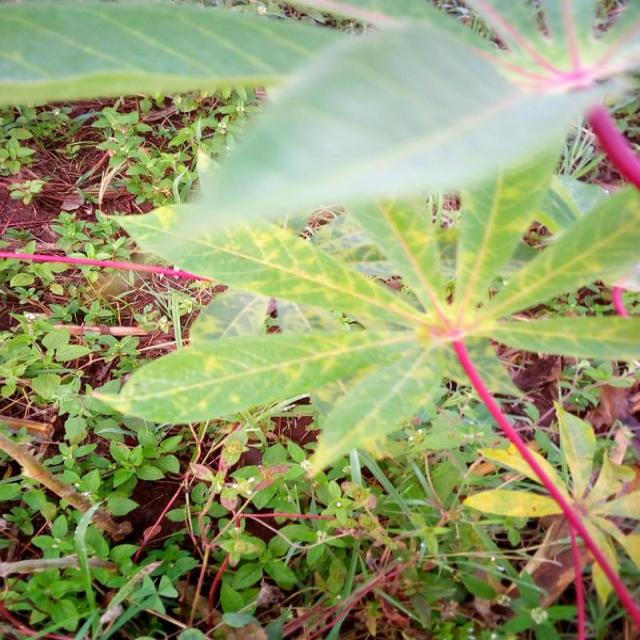cassava leaf: (88, 13, 638, 478)
